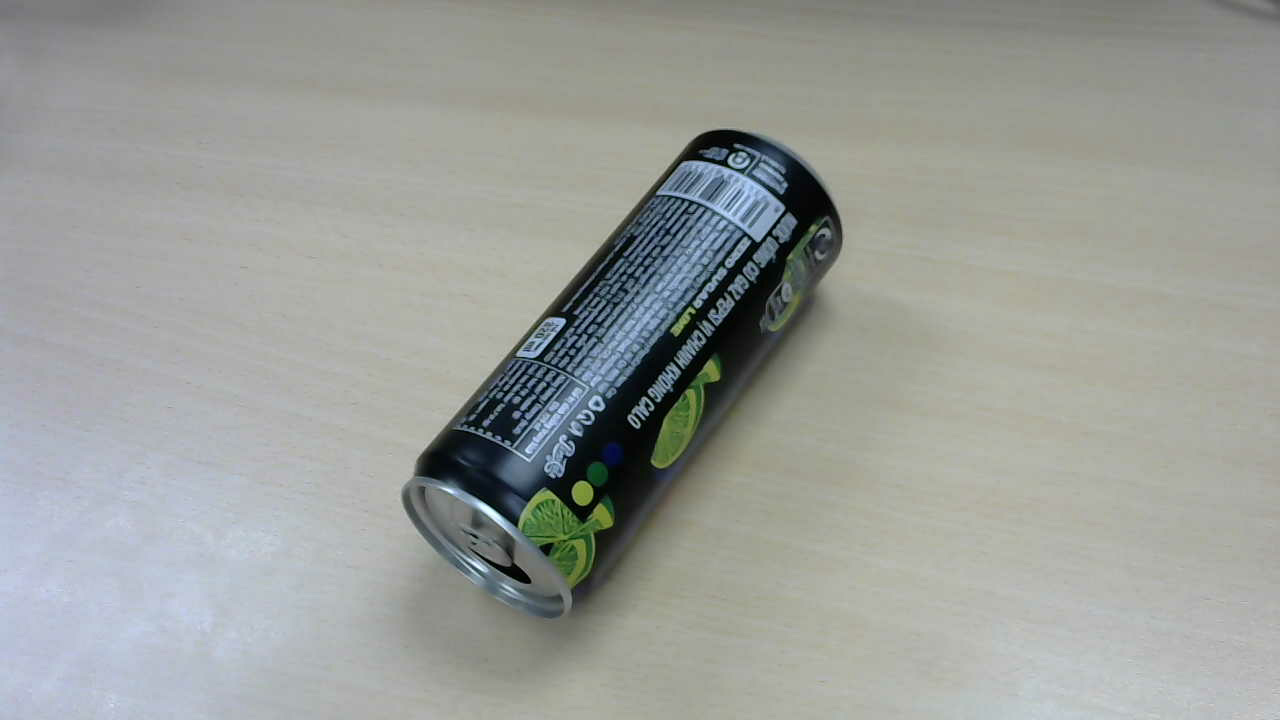Pepsi: (407, 133, 849, 623)
